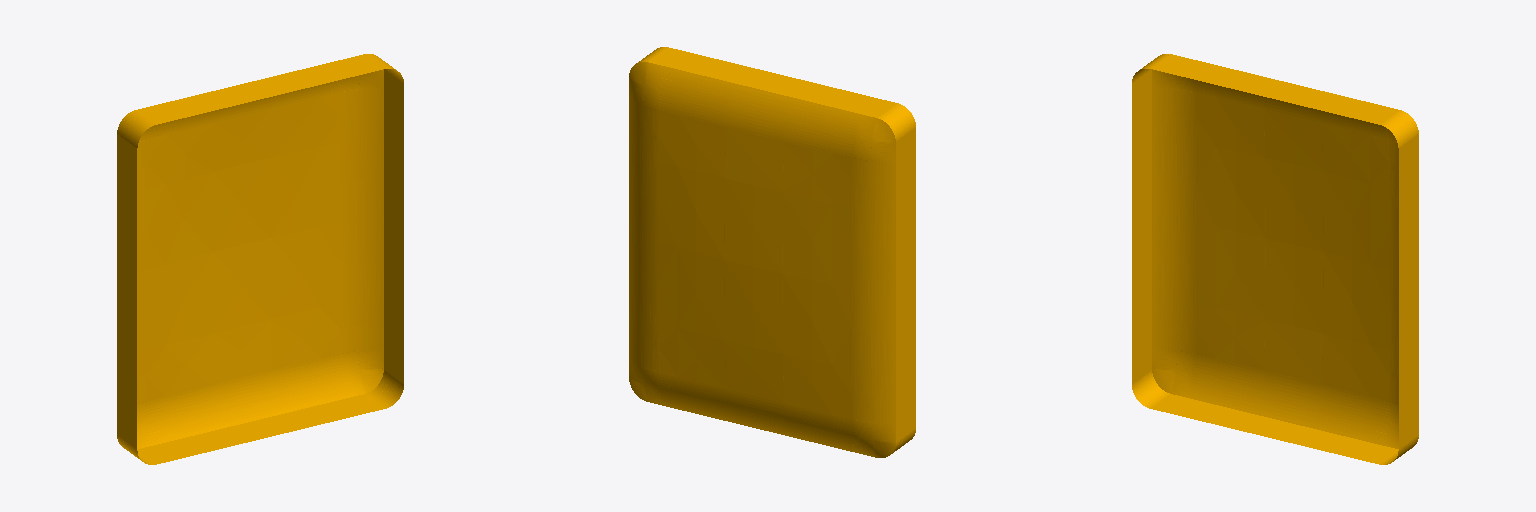
Rendered from gsmini_elastomer_transformed.obj.
The picture shows the model from 3 angles: view 1: azimuth 30°, elevation 25°; view 2: azimuth 150°, elevation 25°; view 3: azimuth 330°, elevation 25°; orthographic projection.
Size of the model in its own units: 0.0208 by 0.0252 by 0.004.